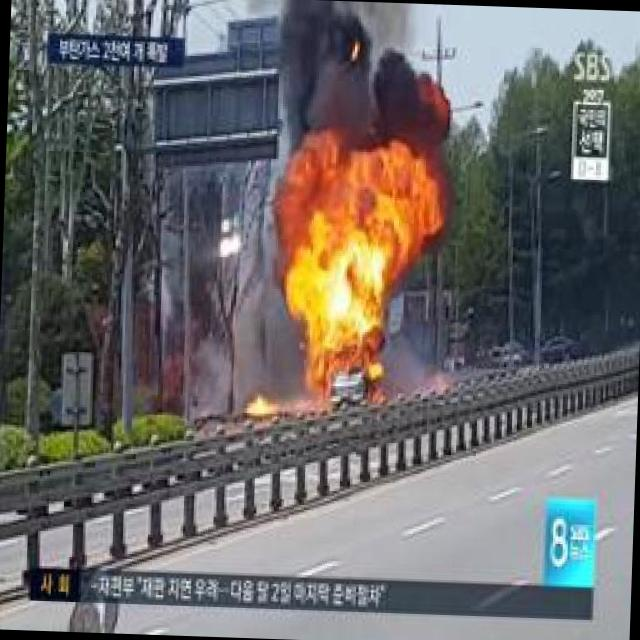Fire: (265, 124, 444, 404), (240, 392, 270, 423)
Smoke: (276, 0, 454, 146)
